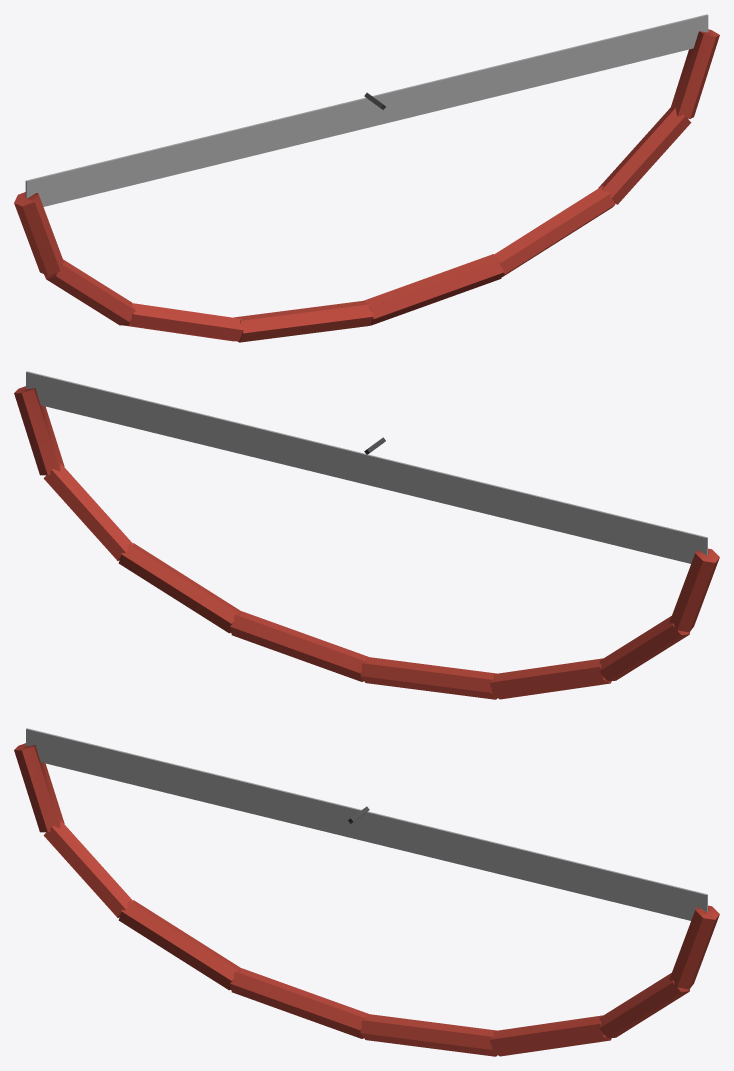
The model's file is bow_saw.glb.
The picture shows the model from 3 angles, top to bottom: view 1: azimuth 30°, elevation 25°; view 2: azimuth 150°, elevation 25°; view 3: azimuth 330°, elevation 25°; orthographic projection.
Visible parts, largest first — view 1: static; view 2: static; view 3: static.
Part boxes in pixels (x1,y1,x2,y2): static: (14, 14, 719, 342); static: (14, 371, 719, 699); static: (14, 728, 719, 1056).
Bounding box in the file's own units: 0.7413 × 0.2339 × 0.0419.
